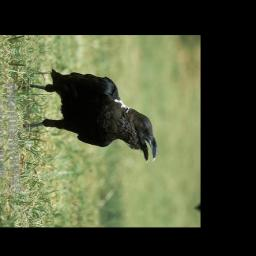Crow: (15, 56, 161, 178)
